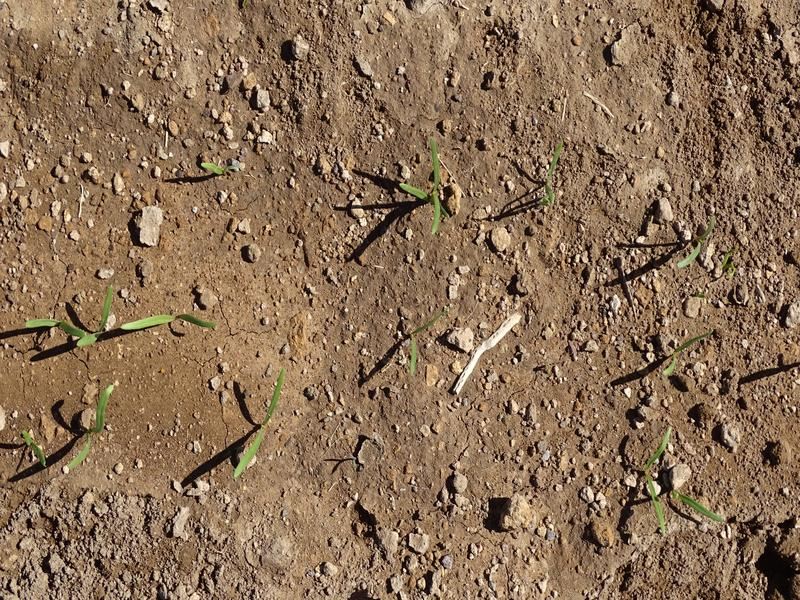Espinaca: (633, 425, 730, 535), (28, 291, 217, 347), (229, 366, 295, 474), (59, 377, 130, 477), (399, 139, 450, 232), (662, 329, 712, 380), (538, 141, 570, 209), (677, 218, 719, 266)
